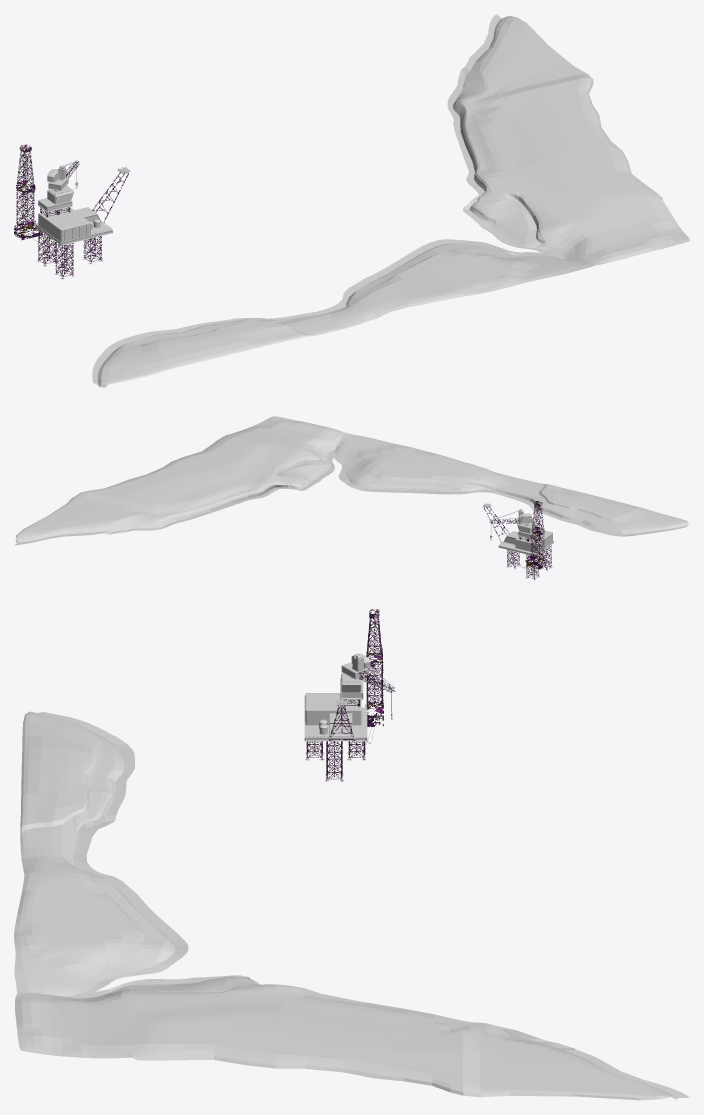
File: TopWorld_Bayou.fbx
3 renders of one model, top to bottom at view 1: azimuth 30°, elevation 25°; view 2: azimuth 150°, elevation 25°; view 3: azimuth 270°, elevation 25°, orthographic. The views are drawn at different scales.
Visible parts, largest first — view 1: Cube.024, Cube.115, Cube.122, Cube.072, oilrigpier_Outer.001, Cube.019, Cube.016; view 2: Cube.024, Cube.115, Cube.122, oilrigpier_Outer.001, Cube.072, Cube.019, Cube.016; view 3: Cube.024, Cube.115, Cube.122, Cube.072, Cube.019, oilrigpier_Outer.001, Cube.023.
Part boxes in pixels (x1=…): Cube.024: x1=97, y1=15, x2=689, y2=387; Cube.115: x1=92, y1=239, x2=565, y2=385; Cube.122: x1=447, y1=14, x2=564, y2=258; Cube.072: x1=38, y1=207, x2=90, y2=242; oilrigpier_Outer.001: x1=38, y1=229, x2=102, y2=278; Cube.019: x1=16, y1=146, x2=34, y2=230; Cube.016: x1=14, y1=144, x2=42, y2=240; Cube.024: x1=15, y1=416, x2=689, y2=542; Cube.115: x1=332, y1=449, x2=687, y2=536; Cube.122: x1=14, y1=450, x2=334, y2=545; oilrigpier_Outer.001: x1=507, y1=545, x2=551, y2=579; Cube.072: x1=515, y1=529, x2=552, y2=552; Cube.019: x1=531, y1=503, x2=544, y2=561; Cube.016: x1=525, y1=501, x2=545, y2=569; Cube.024: x1=14, y1=711, x2=676, y2=1100; Cube.115: x1=38, y1=712, x2=188, y2=997; Cube.122: x1=71, y1=975, x2=689, y2=1098; Cube.072: x1=305, y1=693, x2=361, y2=725; Cube.019: x1=366, y1=612, x2=383, y2=710; oilrigpier_Outer.001: x1=306, y1=741, x2=365, y2=781; Cube.023: x1=304, y1=707, x2=367, y2=741.
Bounding box in the file's own units: 364 × 61.41 × 259.
